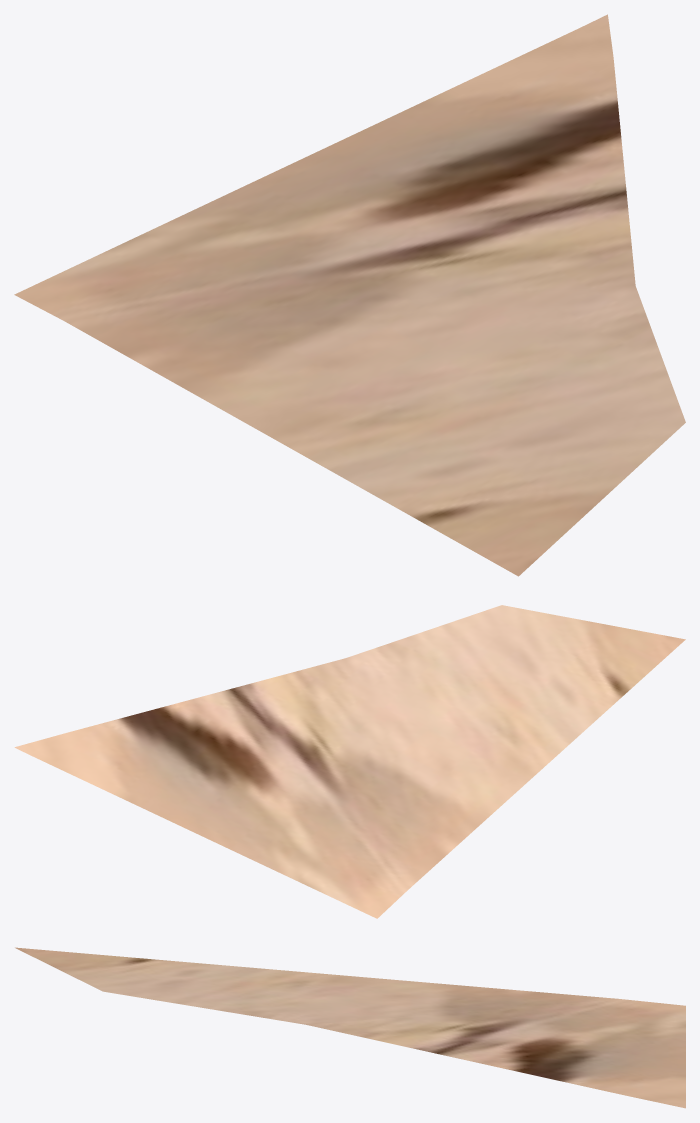
The picture shows the model from 3 angles, top to bottom: view 1: azimuth 30°, elevation 25°; view 2: azimuth 150°, elevation 25°; view 3: azimuth 270°, elevation 25°; orthographic projection. The views are drawn at different scales.
Size of the model in its own units: 0.2559 by 0.0558 by 0.3766.
1 material, 1 textured.
